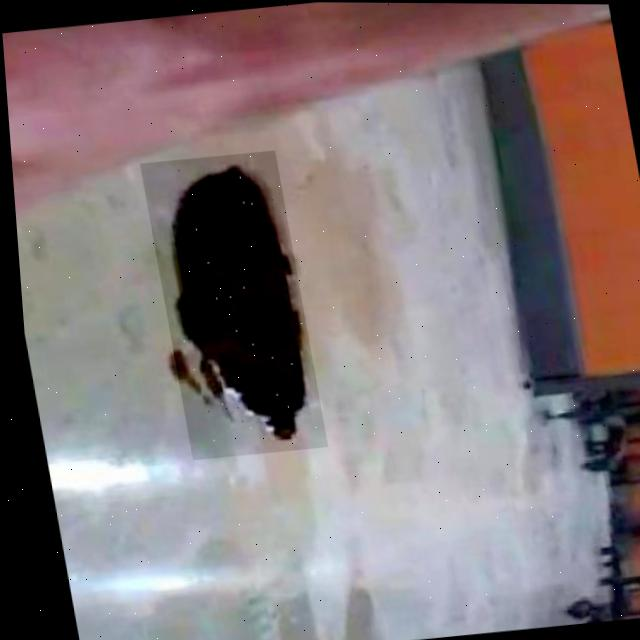spillage: (159, 150, 307, 448)
